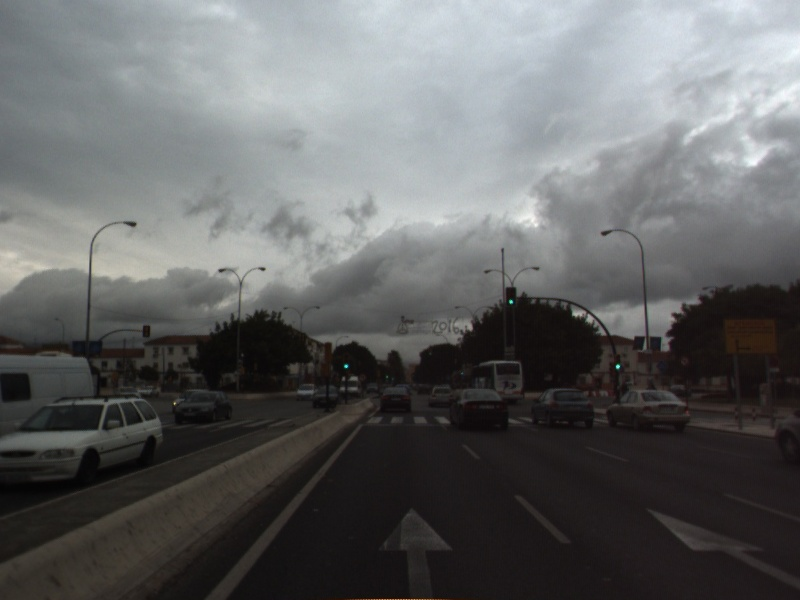STRAIGHT: (643, 504, 800, 589), (374, 503, 457, 600)
